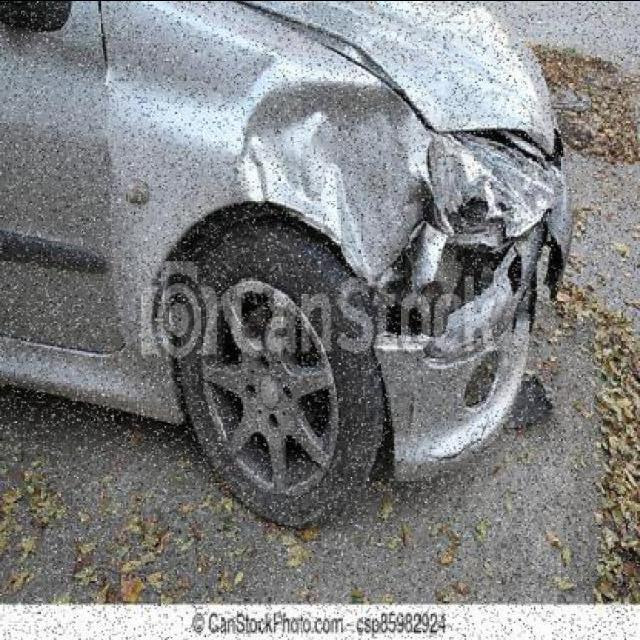Headlight-Damage: (405, 120, 572, 244)
fender-dent: (97, 58, 396, 334)
front-bumper-dent: (354, 226, 565, 488)
